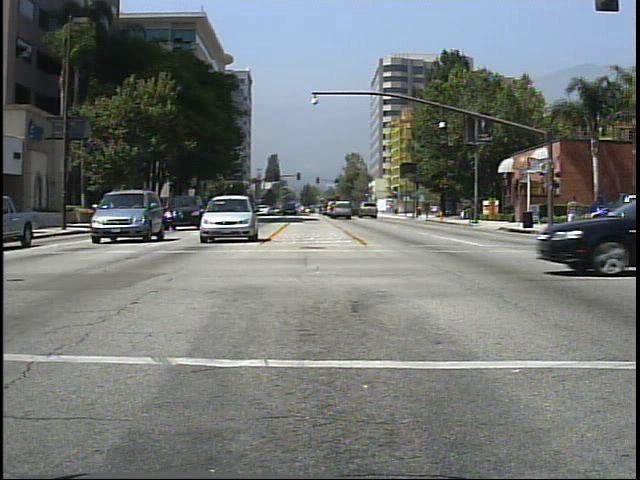person: (566, 192, 585, 230)
